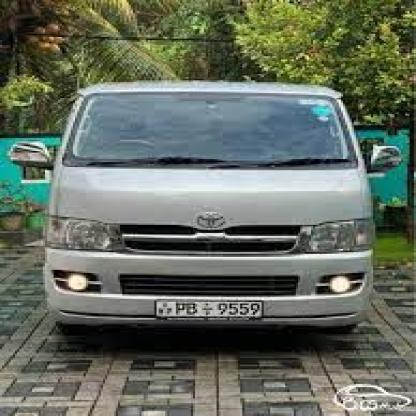number plate: (156, 297, 266, 319)
van front: (6, 80, 396, 340)
